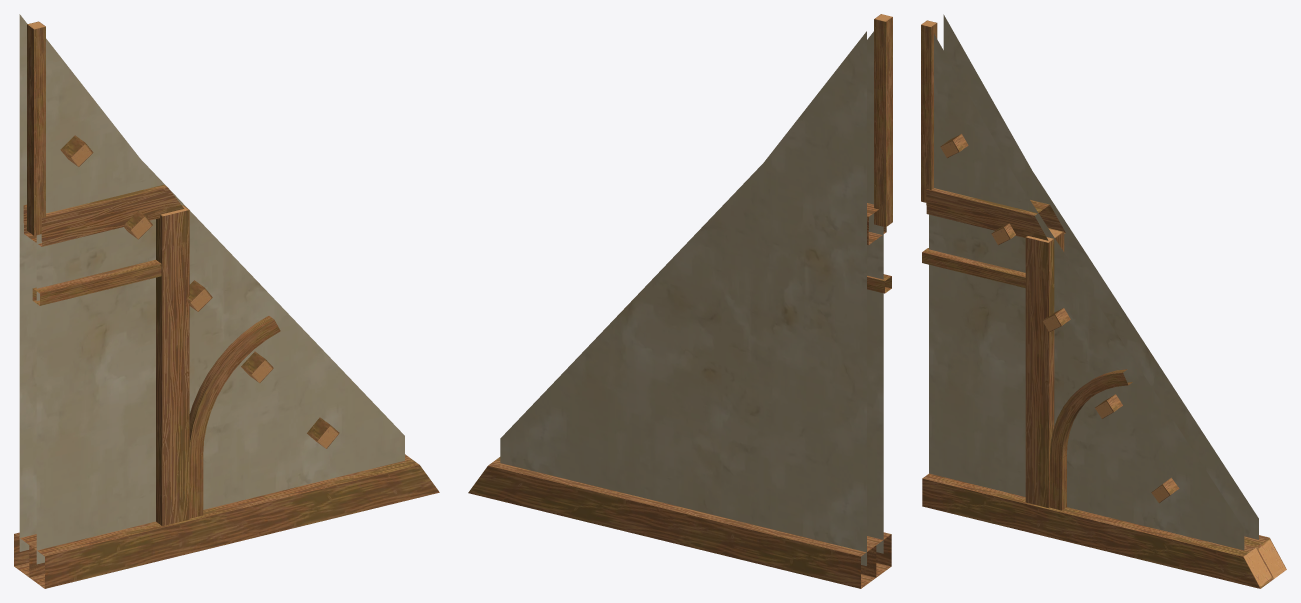
File: roof_front_brick6_half_r.glb
3 views of the same model, side by side, from view 1: azimuth 30°, elevation 25°; view 2: azimuth 150°, elevation 25°; view 3: azimuth 330°, elevation 25° (orthographic). The views are drawn at different scales.
Size of the model in its own units: 3.4 by 4.52 by 0.4895.
2 materials, 2 textured.
